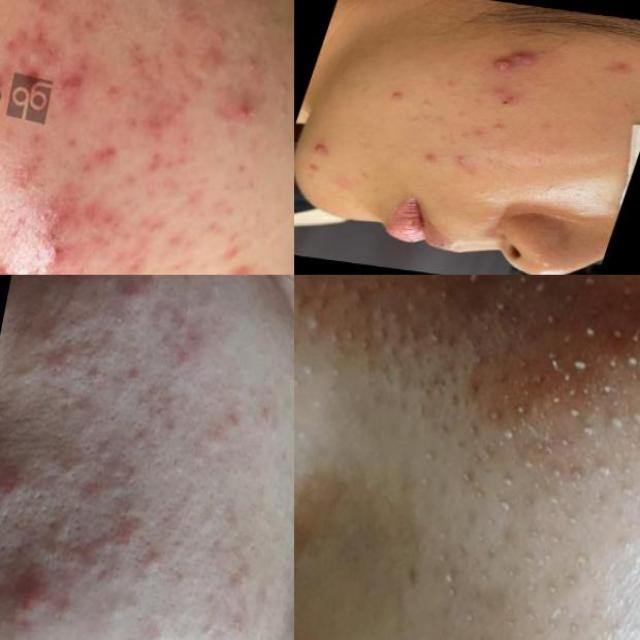acne_scars: (89, 129, 139, 176), (212, 247, 274, 275), (54, 64, 92, 97)
comedone: (301, 275, 566, 411), (388, 412, 535, 613), (519, 274, 640, 440), (529, 427, 634, 534), (507, 532, 606, 640), (596, 341, 640, 486), (80, 426, 144, 509), (263, 70, 294, 109), (222, 16, 256, 48), (108, 623, 168, 640), (58, 542, 86, 572), (78, 361, 104, 392), (104, 550, 132, 578), (84, 542, 106, 574), (239, 381, 261, 408)
papule: (104, 30, 172, 100), (136, 83, 197, 157), (0, 134, 54, 200), (0, 576, 58, 627), (200, 498, 254, 542), (199, 41, 239, 90), (130, 539, 171, 584), (40, 230, 82, 268), (110, 275, 148, 317), (373, 72, 420, 102), (405, 136, 448, 168), (0, 468, 27, 507), (484, 84, 527, 108), (238, 51, 268, 84), (224, 562, 254, 594), (168, 343, 197, 375), (156, 412, 184, 442), (178, 323, 204, 354), (34, 325, 62, 352), (218, 405, 244, 433), (122, 363, 145, 388), (203, 276, 225, 299)
pustule: (223, 90, 263, 133), (297, 129, 332, 157), (444, 143, 478, 170), (477, 111, 514, 132)
sebo-crystan-conglo: (11, 15, 67, 81), (0, 251, 39, 275), (505, 43, 548, 62), (472, 54, 512, 73)
